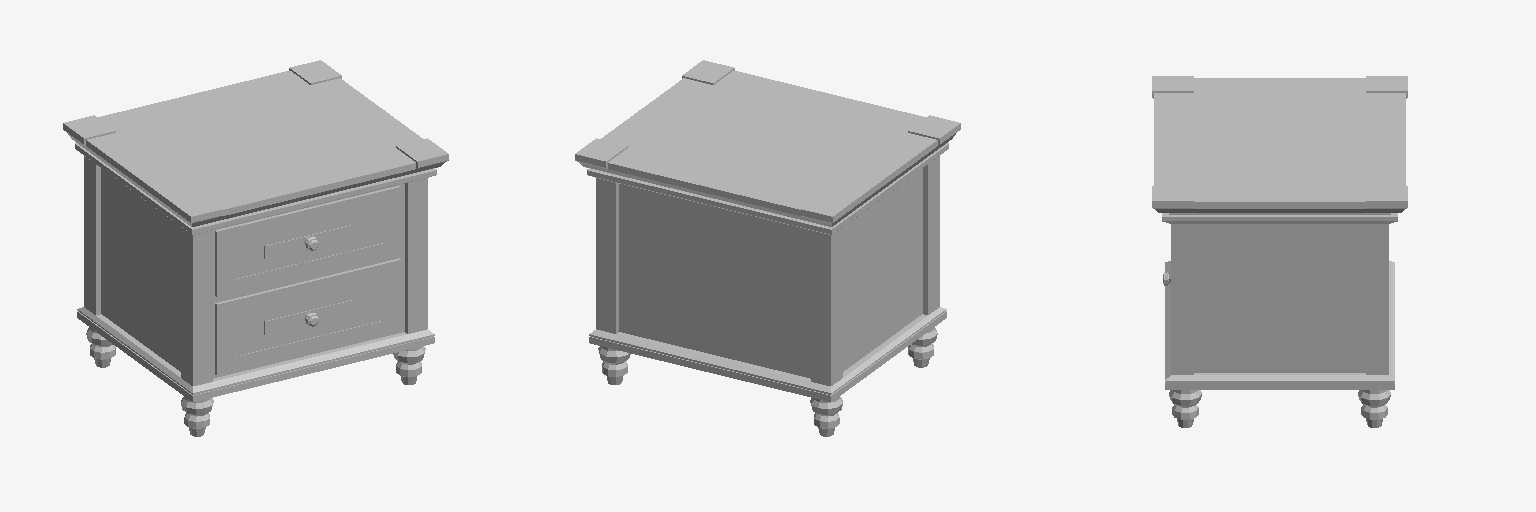
File: NightStand.obj
The picture shows the model from 3 angles: view 1: azimuth 30°, elevation 25°; view 2: azimuth 150°, elevation 25°; view 3: azimuth 270°, elevation 25°; orthographic projection.
Visible parts, largest first — view 1: BottomDrawer; view 2: BottomDrawer; view 3: BottomDrawer.
Part boxes in pixels (x1,y1,x2,y2): BottomDrawer: (63, 60, 448, 436); BottomDrawer: (575, 60, 960, 436); BottomDrawer: (1152, 76, 1407, 427).
Size of the model in its own units: 0.5877 by 0.5117 by 0.5067.